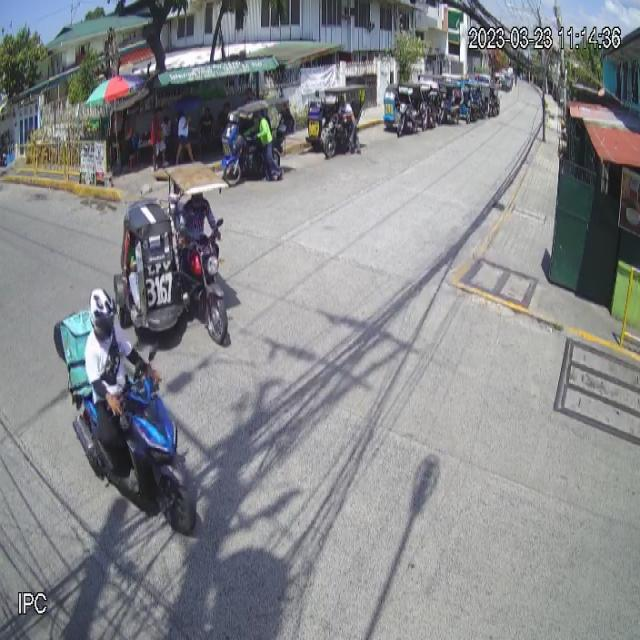Motorcycle: (71, 340, 199, 534)
Tricycle: (113, 159, 231, 345)
